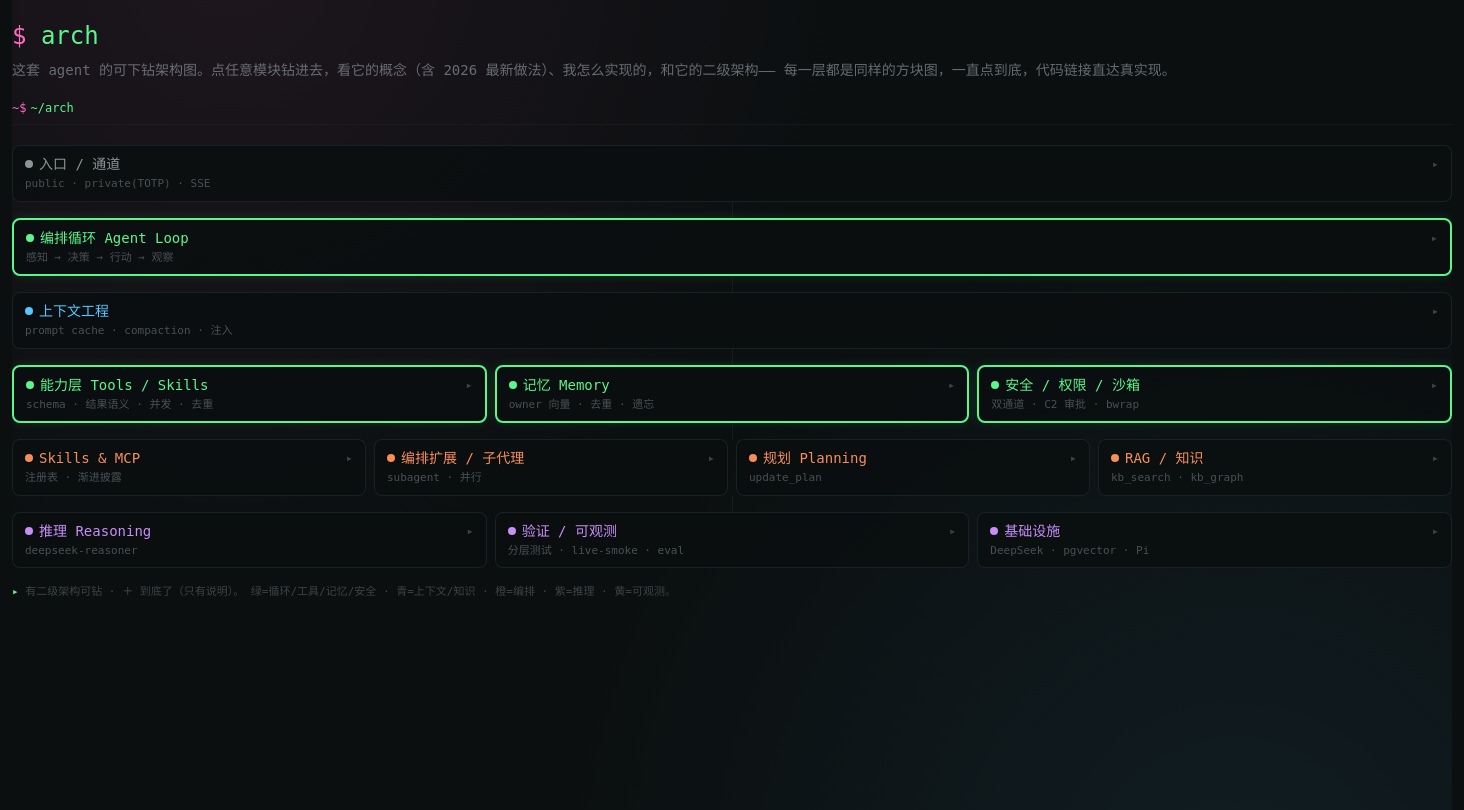
Arch 架构解剖器（原地下钻） › 点节点 → 原地钻进去（替换总图），显示概念/我的实现/二级方块
Click the text "记忆 Memory". click: x=566, y=384
box: [523, 376, 610, 392]
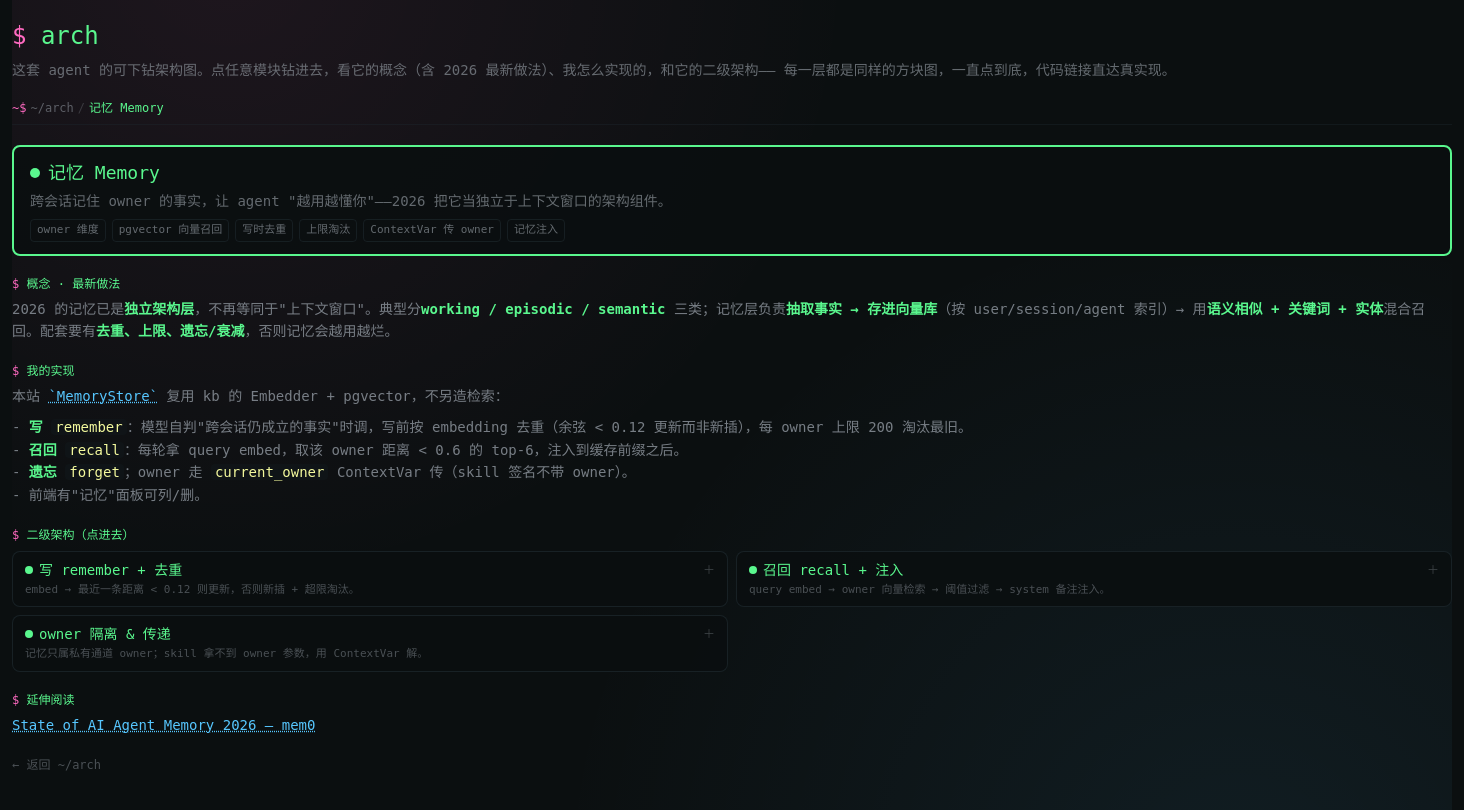
Now the text "跨会话记住 owner 的事实，让 agent \"越用越懂你\"——2026 把它当独立于上下文窗口的架构组件。" is shown, box [30, 193, 672, 209]
Now the text "概念 · 最新做法" is shown, box [26, 276, 120, 290]
Now the text "我的实现" is shown, box [26, 364, 74, 378]
